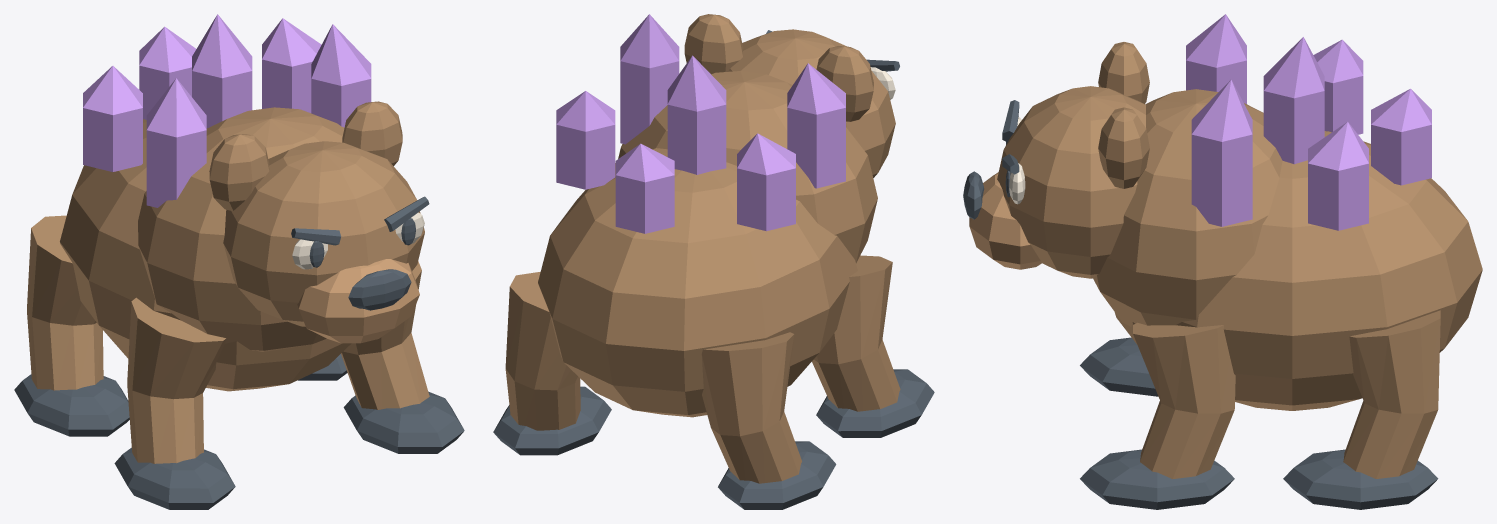
File: crystal-bear.glb
3 renders of one model, left to right at view 1: azimuth 30°, elevation 25°; view 2: azimuth 150°, elevation 25°; view 3: azimuth 270°, elevation 25°, orthographic. The views are drawn at different scales.
Visible parts, largest first — view 1: head, shoulders, body, leg_-1_0, leg_-1_1, violet_crystal_0, muzzle, leg_1_0, violet_crystal_2, paw_-1_0, violet_crystal_4, paw_-1_1 (+11 smaller); view 2: body, leg_-1_1, shoulders, leg_-1_0, leg_1_1, head, violet_crystal_4, violet_crystal_0, violet_crystal_1, violet_crystal_3, violet_crystal_2, violet_crystal_5 (+5 smaller); view 3: body, shoulders, head, leg_1_1, leg_1_0, violet_crystal_1, violet_crystal_4, violet_crystal_3, paw_1_1, paw_1_0, violet_crystal_5, violet_crystal_0 (+6 smaller).
Part boxes in pixels (x1,y1,x2,y2): head: (223,141,424,326); shoulders: (138,107,344,351); body: (60,119,351,391); leg_-1_0: (127,297,226,463); leg_-1_1: (27,215,103,390); violet_crystal_0: (146,78,206,207); muzzle: (297,259,419,343); leg_1_0: (341,261,429,409); violet_crystal_2: (83,66,142,171); paw_-1_0: (114,448,235,509); violet_crystal_4: (192,14,252,128); paw_-1_1: (14,374,129,436); body: (538,148,857,417); leg_-1_1: (701,332,801,483); shoulders: (618,71,877,263); leg_-1_0: (812,255,900,411); leg_1_1: (505,272,580,430); head: (728,29,895,177); violet_crystal_4: (667,55,726,174); violet_crystal_0: (787,63,845,188); violet_crystal_1: (620,14,679,144); violet_crystal_3: (556,91,615,189); violet_crystal_2: (737,133,795,231); violet_crystal_5: (615,143,674,233); body: (1114,131,1482,410); shoulders: (1093,89,1282,326); head: (997,86,1145,278); leg_1_1: (1343,310,1440,478); leg_1_0: (1133,322,1235,478); violet_crystal_1: (1191,79,1252,226); violet_crystal_4: (1263,37,1324,164); violet_crystal_3: (1308,121,1368,230); paw_1_1: (1283,449,1438,509); paw_1_0: (1080,449,1234,509); violet_crystal_5: (1371,88,1431,185); violet_crystal_0: (1186,14,1246,103).
Size of the model in its own units: 3.04 by 3.6 by 4.16.
